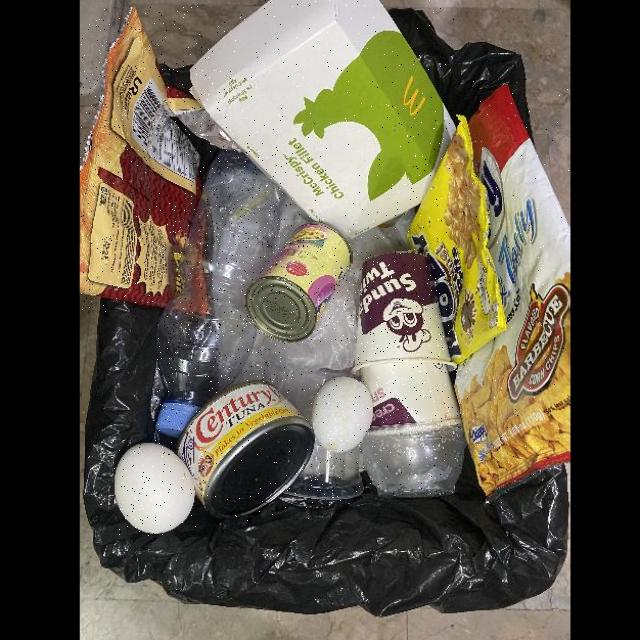biowaste: (114, 441, 196, 536), (312, 378, 372, 453)
metal: (408, 121, 508, 372), (174, 383, 315, 523), (245, 224, 352, 344)
paper: (189, 0, 456, 239), (353, 252, 453, 366), (361, 363, 460, 429)
plastic: (156, 149, 287, 440), (286, 372, 373, 501), (363, 425, 466, 497)
wrapper: (453, 81, 569, 492), (80, 8, 210, 317)
